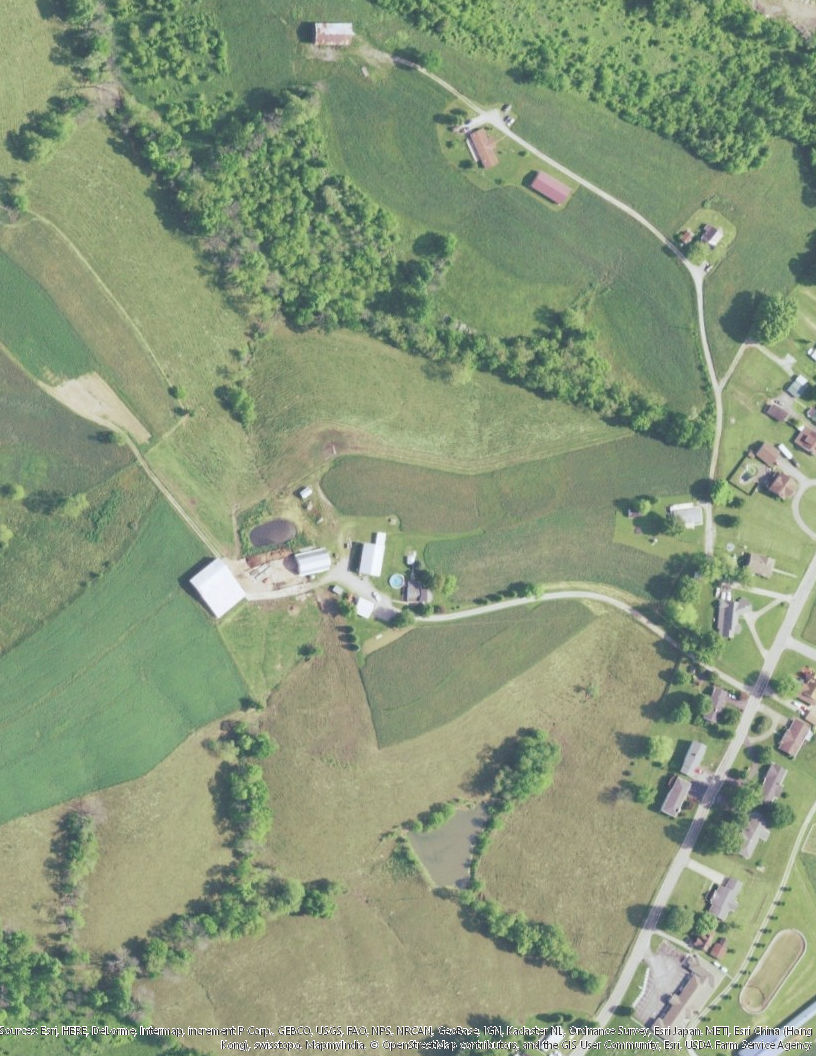cafo: (184, 551, 255, 620), (354, 527, 392, 582), (292, 544, 334, 577)
